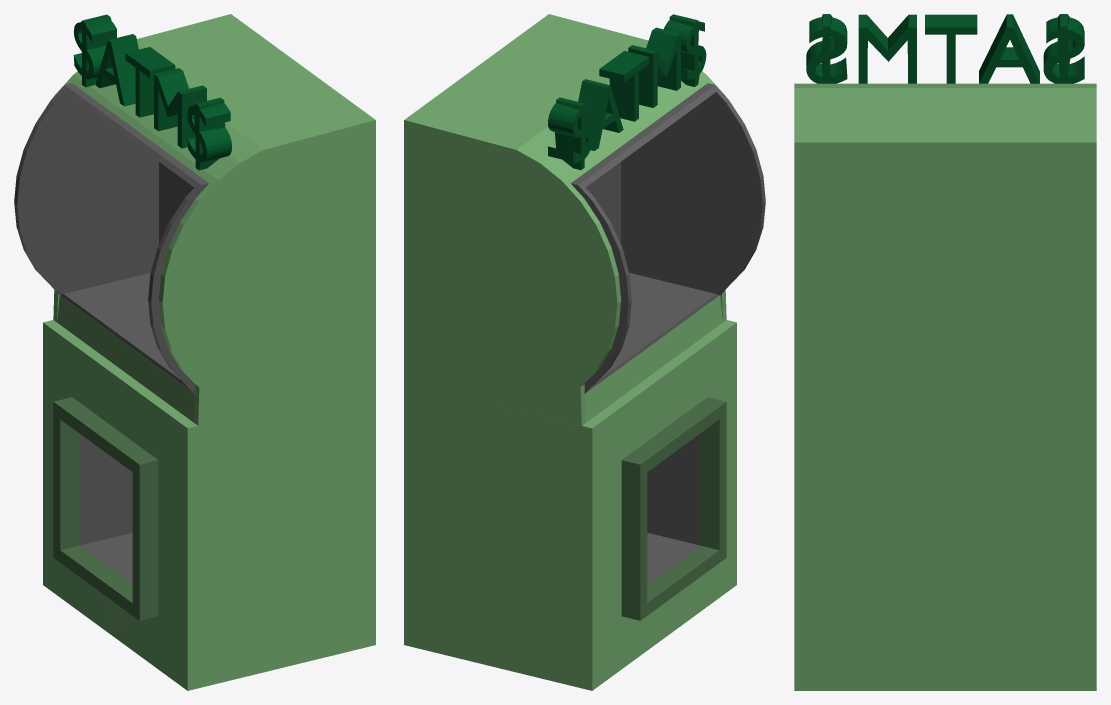
File: bank.fbx
The picture shows the model from 3 angles, left to right: view 1: azimuth 30°, elevation 25°; view 2: azimuth 150°, elevation 25°; view 3: azimuth 270°, elevation 25°; orthographic projection. The views are drawn at different scales.
Visible parts, largest first — view 1: Cube; view 2: Cube; view 3: Cube.
Boxes of the visible parts, box(x1,y1,x2,y2) form: Cube: box(14, 14, 375, 690); Cube: box(404, 14, 765, 690); Cube: box(794, 14, 1096, 690).
Size of the model in its own units: 176 by 433 by 200.
1 material, 1 textured.
